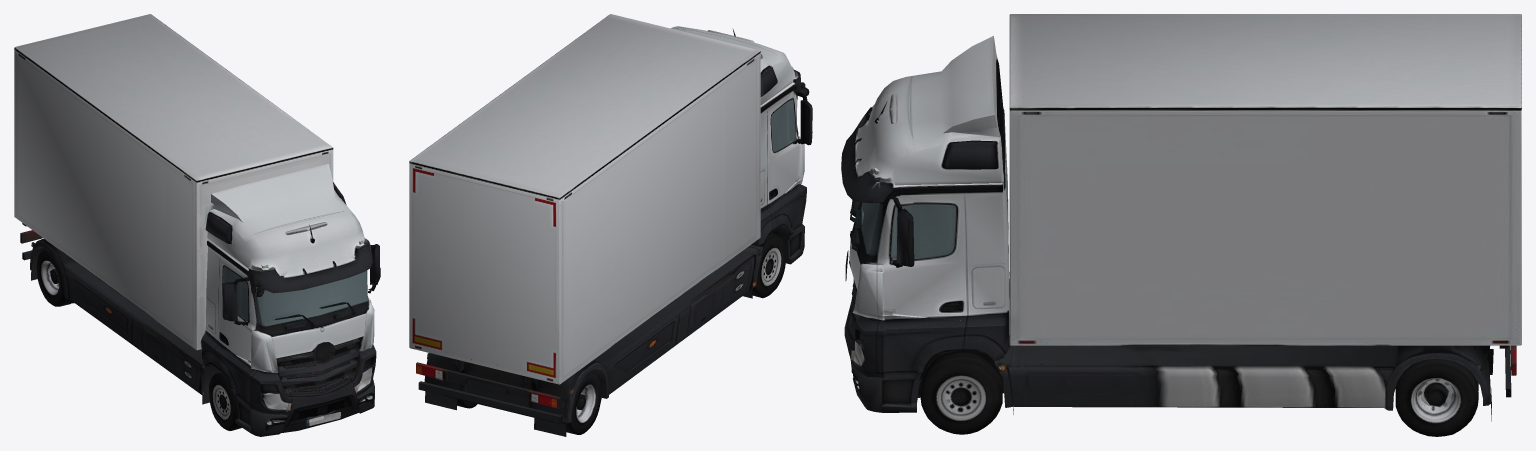
Rendered from Truck.glb.
3 renders of one model, left to right at view 1: azimuth 30°, elevation 25°; view 2: azimuth 150°, elevation 25°; view 3: azimuth 270°, elevation 25°, orthographic. The views are drawn at different scales.
Visible parts, largest first — view 1: Truck; view 2: Truck; view 3: Truck.
Boxes of the visible parts, x1,y1,x2,y2 form: Truck: (14, 14, 380, 436); Truck: (409, 14, 812, 436); Truck: (841, 14, 1521, 436).
Bounding box in the file's own units: 2.32 × 3.33 × 6.16.
Materials: 1 (1 with a texture image).
